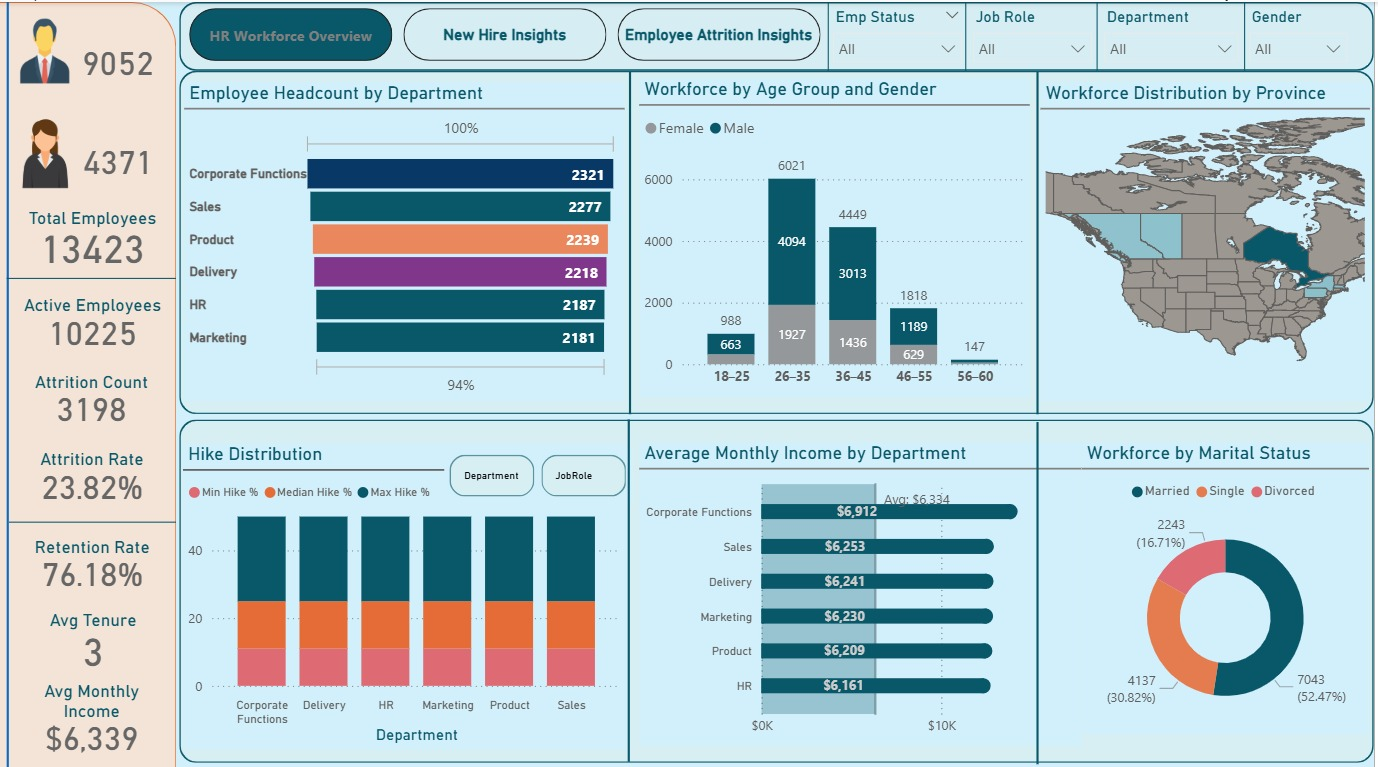

The dashboard page shown, as its layout file describes it:
{"tool":"powerbi","page":{"name":"HR Workforce Overview","canvas":[1280,720],"ordinal":0},"visuals":[{"type":"shape","box":[168.3,388.6,1111.2,319.6],"z":0},{"type":"shape","box":[168.3,64.2,1111.2,319.6],"z":1000},{"type":"shape","box":[168.3,0,1111.2,64.2],"z":2000},{"type":"shape","box":[0,0,165.8,720.2],"z":3000},{"type":"cardVisual","title":"Total Employees","fields":{"Data":["Age Group.Total Employees"]},"box":[3.2,179.2,169.5,88.4],"z":4000},{"type":"cardVisual","title":"Avg Tenure","fields":{"Data":["Employee_office_survey.Average Tenure (Years)"]},"box":[12.1,553.2,154.9,75.1],"z":5000},{"type":"columnChart","title":"Workforce by Age Group and Gender","fields":{"Category":["Age Group.Age Group"],"Y":["Age Group.Employee Count by Age Group"],"Series":["HR Employee data.Gender"]},"box":[596.8,71.4,363.1,296.6],"z":6000},{"type":"cardVisual","title":"Attrition count","fields":{"Data":["Age Group.Attrition2"]},"box":[7.4,330.5,161,85.9],"z":7000},{"type":"cardVisual","title":"Avg Monthly Income","fields":{"Data":["Avg(HR Employee data.MonthlyIncome)"]},"box":[9.8,618.6,156.2,101.7],"z":8000},{"type":"donutChart","title":"Workforce by Marital Status","fields":{"Category":["HR Employee data.MaritalStatus"],"Y":["CountNonNull(HR Employee data.EmployeeID)"]},"box":[1008.3,409.1,267.5,272.4],"z":9000},{"type":"columnChart","title":"Hike Distribution","fields":{"Category":["HR Employee data.Department","Job_position_structure.JobRole"],"Y":["Age Group.Min Hike %","Age Group.Median Hike %","Age Group.Max Hike %"]},"box":[171.9,410.4,412.8,284.5],"z":9000,"group":"g1"},{"type":"cardVisual","title":"Active Employees","fields":{"Data":["Age Group.active Employee"]},"box":[3.2,257.8,169.5,87.2],"z":10000},{"type":"advancedSlicerVisual","fields":{"Values":["Parameter.Parameter"]},"box":[415.3,416.4,175.5,49.6],"z":10000,"group":"g1"},{"type":"cardVisual","title":"Attrition Rate","fields":{"Data":["Employee_office_survey.Attrition Rate 2(%)"]},"box":[10.4,403.1,154.9,81.1],"z":11000},{"type":"clusteredBarChart","title":"Average Monthly Income by Department","fields":{"Category":["HR Employee data.Department"],"Y":["Avg(HR Employee data.MonthlyIncome)"]},"box":[596.8,409.1,411.6,282],"z":12000},{"type":"cardVisual","fields":{"Data":["Age Group.Male Employees"]},"box":[53.3,27.8,116.2,56.9],"z":13000},{"type":"cardVisual","fields":{"Data":["Age Group.Female Employees"]},"box":[50.8,119.8,121,59.3],"z":14000},{"type":"shape","box":[0,0,18.2,720.2],"z":15000},{"type":"shapeMap","title":"Workforce Distribution by Province","fields":{"Category":["Office_codes.province"],"Value":["CountNonNull(HR Employee data.EmployeeID)"]},"box":[969.6,73.8,306.3,296.6],"z":16000},{"type":"funnel","title":"Employee Headcount by Department","fields":{"Category":["HR Employee data.Department"],"Y":["CountNonNull(HR Employee data.EmployeeID)"]},"box":[173.3,74.4,409.3,296.5],"z":17000},{"type":"group","id":"g1","title":"Group 1","box":[171.9,410.4,418.9,284.5],"z":18000},{"type":"shape","box":[570.1,65.4,36.3,318.4],"z":19000},{"type":"shape","box":[949,65.4,36.3,318.4],"z":20000},{"type":"shape","box":[568.9,388.6,36.3,318.4],"z":21000},{"type":"shape","box":[949,391,36.3,318.4],"z":22000},{"type":"image","box":[0.9,0,84.7,90.8],"z":23000},{"type":"image","box":[0,90.8,88.4,100.5],"z":24000},{"type":"shape","box":[8.5,238.5,157.4,37.5],"z":25000},{"type":"shape","box":[10.9,464.8,154.9,37.5],"z":26000},{"type":"cardVisual","fields":{"Data":["Age Group.Retention Rate %"]},"box":[9.2,484.2,157.4,85.9],"z":27000},{"type":"slicer","fields":{"Values":["HR Employee data.Gender"]},"box":[1153.6,0,111.4,61.7],"z":28000},{"type":"slicer","fields":{"Values":["HR Employee data.Attrition"]},"box":[766.2,0,140.4,61.7],"z":29000},{"type":"slicer","fields":{"Values":["Job_position_structure.JobRole"]},"box":[897,0,130.7,65.4],"z":30000},{"type":"slicer","fields":{"Values":["HR Employee data.Department"]},"box":[1018,0,145.3,61.7],"z":31000},{"type":"shape","box":[766.2,0,12.1,64.2],"z":32000},{"type":"shape","box":[894.6,0,12.1,64.2],"z":33000},{"type":"shape","box":[1014.4,0,16.9,64.2],"z":34000},{"type":"shape","box":[1151.2,0,16.9,64.2],"z":35000},{"type":"pageNavigator","box":[177.9,6.1,588.3,49.6],"z":36001}]}

Visuals, with their boxes in screenshot pixels (x1, y1, x2, y2), scaled from the page's 1280x720 canvas onto the 1378x767 screenshot:
shape: bbox=(181, 414, 1377, 754)
shape: bbox=(181, 68, 1377, 409)
shape: bbox=(181, 0, 1377, 68)
shape: bbox=(0, 0, 178, 766)
"Total Employees" cardVisual: bbox=(3, 191, 186, 285)
"Avg Tenure" cardVisual: bbox=(13, 589, 180, 669)
"Workforce by Age Group and Gender" columnChart: bbox=(642, 76, 1033, 392)
"Attrition count" cardVisual: bbox=(8, 352, 181, 444)
"Avg Monthly Income" cardVisual: bbox=(11, 659, 179, 766)
"Workforce by Marital Status" donutChart: bbox=(1085, 436, 1373, 726)
"Hike Distribution" columnChart: bbox=(185, 437, 629, 740)
"Active Employees" cardVisual: bbox=(3, 275, 186, 368)
advancedSlicerVisual - Parameter.Parameter: bbox=(447, 444, 636, 496)
"Attrition Rate" cardVisual: bbox=(11, 429, 178, 516)
"Average Monthly Income by Department" clusteredBarChart: bbox=(642, 436, 1086, 736)
cardVisual - Age Group.Male Employees: bbox=(57, 30, 182, 90)
cardVisual - Age Group.Female Employees: bbox=(55, 128, 185, 191)
shape: bbox=(0, 0, 20, 766)
"Workforce Distribution by Province" shapeMap: bbox=(1044, 79, 1374, 395)
"Employee Headcount by Department" funnel: bbox=(187, 79, 627, 395)
"Group 1" group: bbox=(185, 437, 636, 740)
shape: bbox=(614, 70, 653, 409)
shape: bbox=(1022, 70, 1061, 409)
shape: bbox=(612, 414, 652, 753)
shape: bbox=(1022, 417, 1061, 756)
image: bbox=(1, 0, 92, 97)
image: bbox=(0, 97, 95, 204)
shape: bbox=(9, 254, 179, 294)
shape: bbox=(12, 495, 178, 535)
cardVisual - Age Group.Retention Rate %: bbox=(10, 516, 179, 607)
slicer - HR Employee data.Gender: bbox=(1242, 0, 1362, 66)
slicer - HR Employee data.Attrition: bbox=(825, 0, 976, 66)
slicer - Job_position_structure.JobRole: bbox=(966, 0, 1106, 70)
slicer - HR Employee data.Department: bbox=(1096, 0, 1252, 66)
shape: bbox=(825, 0, 838, 68)
shape: bbox=(963, 0, 976, 68)
shape: bbox=(1092, 0, 1110, 68)
shape: bbox=(1239, 0, 1258, 68)
pageNavigator: bbox=(192, 6, 825, 59)
